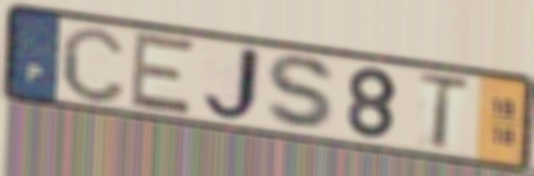8: (345, 64, 398, 141)
C: (58, 23, 129, 106)
E: (127, 29, 199, 118)
J: (199, 42, 265, 125)
S: (263, 52, 342, 134)
T: (413, 71, 473, 153)
